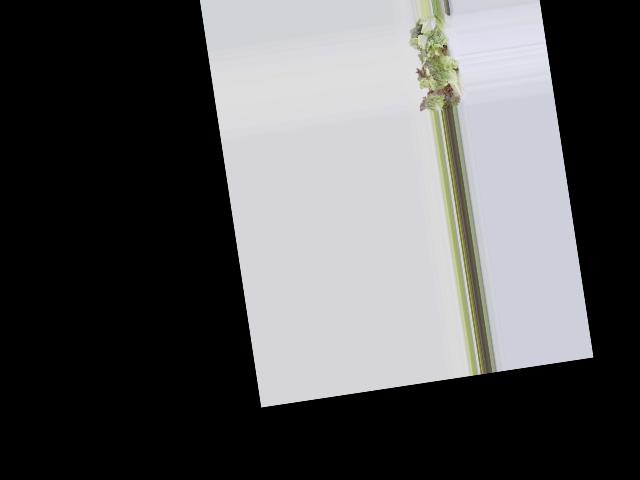lettuce: (410, 19, 458, 109)
